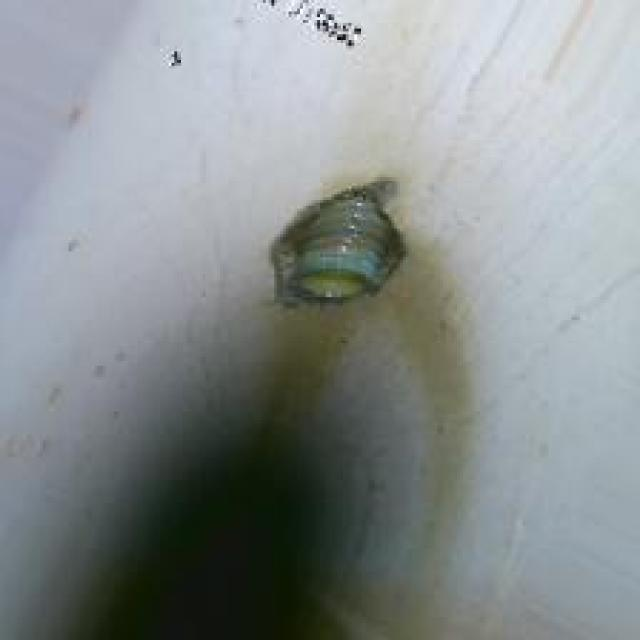ferrule: (272, 183, 397, 306)
